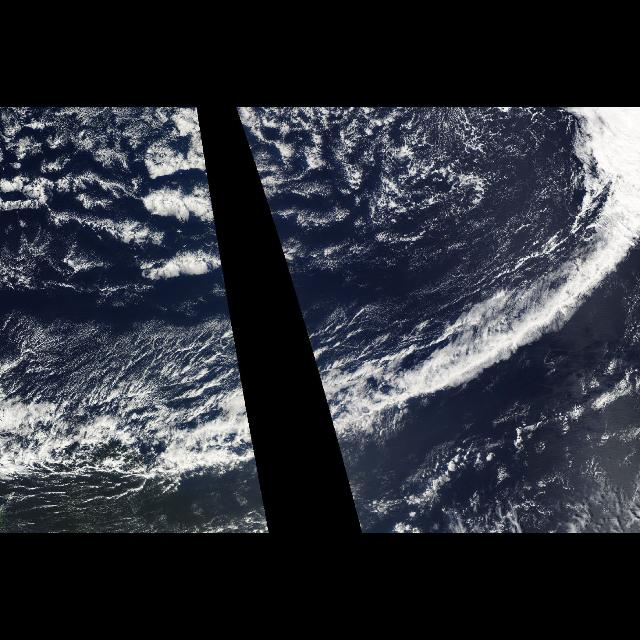Fish: (310, 118, 632, 490), (0, 342, 262, 490)
Flower: (10, 122, 232, 304), (240, 122, 420, 304)
Sugar: (270, 112, 554, 276)
